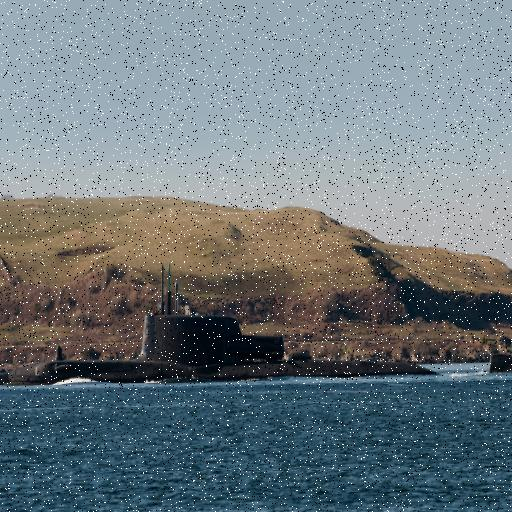submarine: (1, 314, 512, 386)
